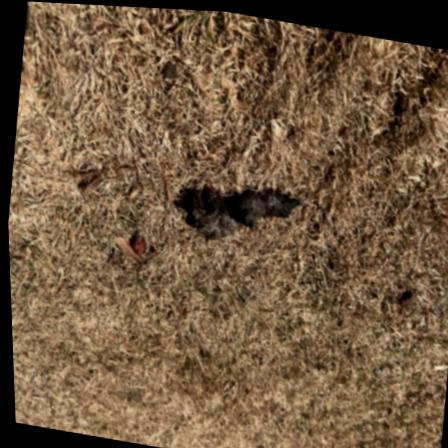dog-poop: (182, 169, 296, 256)
